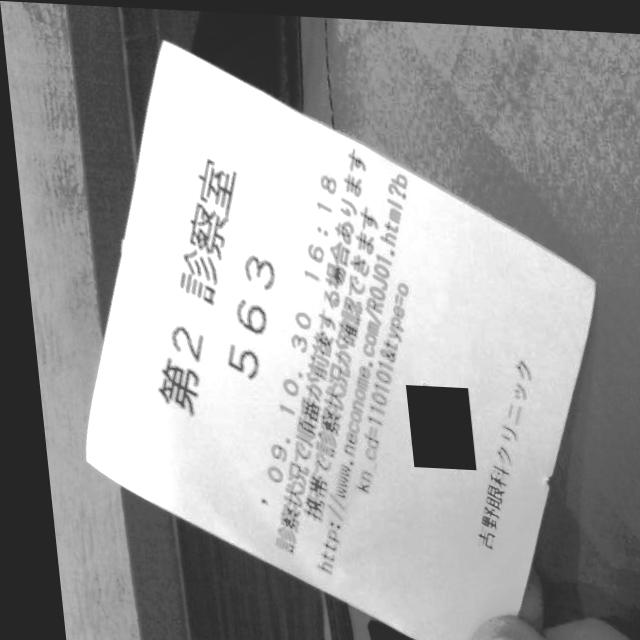qr_code: (398, 380, 466, 465)
